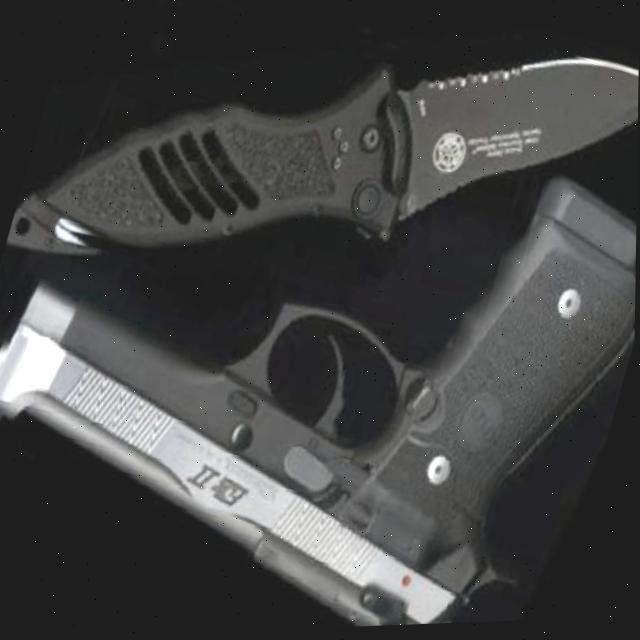gun: (0, 44, 639, 640)
